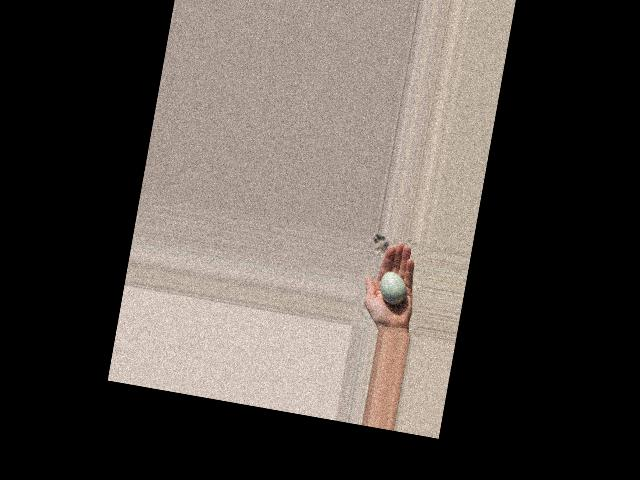egg: (378, 269, 409, 305)
